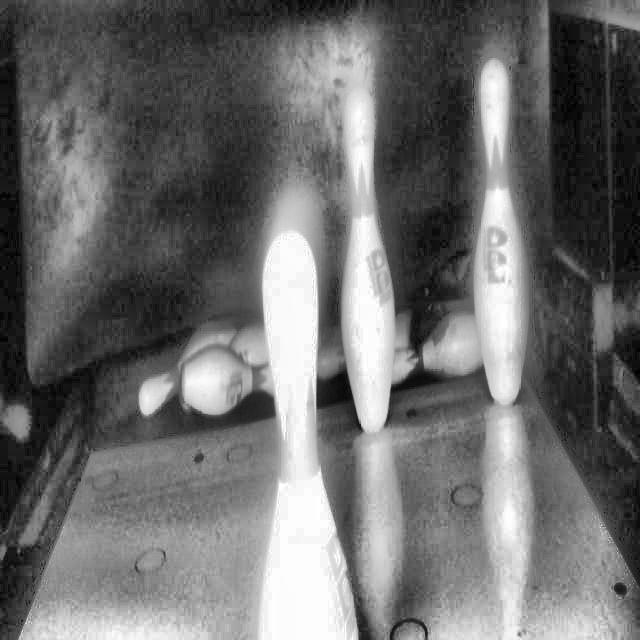bowling-pins: (258, 230, 358, 640), (475, 58, 530, 404), (342, 87, 395, 432)
